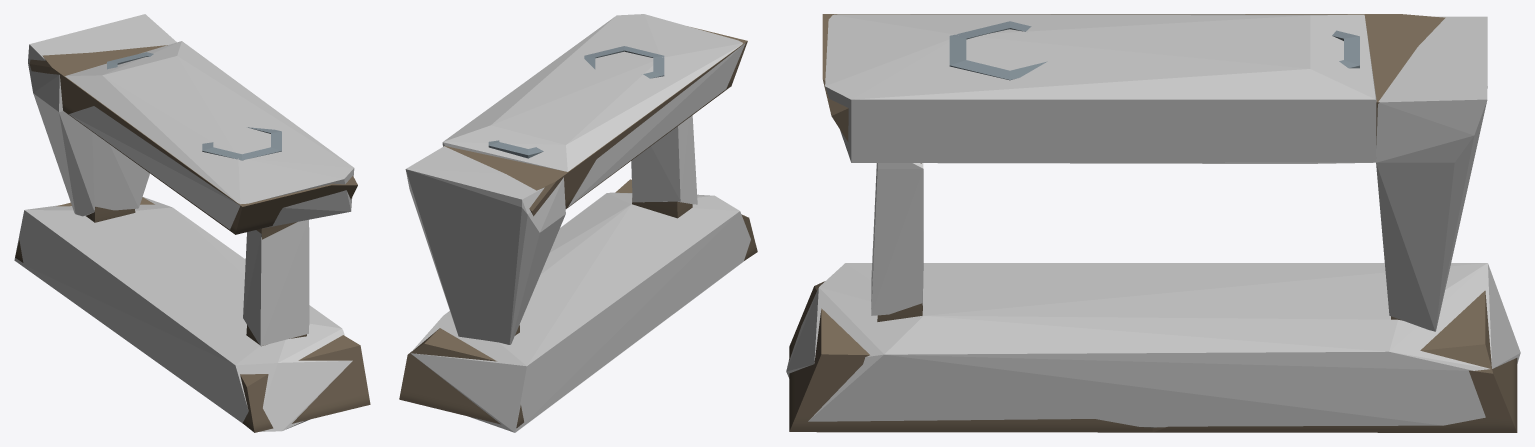
Rendered from SM_Prop_Potion_Stand_03.fbx.
3 renders of one model, left to right at view 1: azimuth 30°, elevation 25°; view 2: azimuth 150°, elevation 25°; view 3: azimuth 270°, elevation 25°, orthographic. The views are drawn at different scales.
Parts seen in each view (by area): view 1: SM_Prop_Potion_Stand_03_ConvexHulls, SM_Prop_Potion_Stand_03; view 2: SM_Prop_Potion_Stand_03_ConvexHulls, SM_Prop_Potion_Stand_03; view 3: SM_Prop_Potion_Stand_03_ConvexHulls, SM_Prop_Potion_Stand_03.
Boxes of the visible parts, left/top/right/bottom form: SM_Prop_Potion_Stand_03_ConvexHulls: left=14, top=14, right=354, bottom=431; SM_Prop_Potion_Stand_03: left=15, top=45, right=370, bottom=432; SM_Prop_Potion_Stand_03_ConvexHulls: left=405, top=14, right=750, bottom=432; SM_Prop_Potion_Stand_03: left=399, top=27, right=757, bottom=428; SM_Prop_Potion_Stand_03_ConvexHulls: left=786, top=14, right=1520, bottom=427; SM_Prop_Potion_Stand_03: left=789, top=14, right=1517, bottom=432.
Bounding box in the file's own units: 17.86 × 60.71 × 32.19.
Materials: 2 (1 with a texture image).
